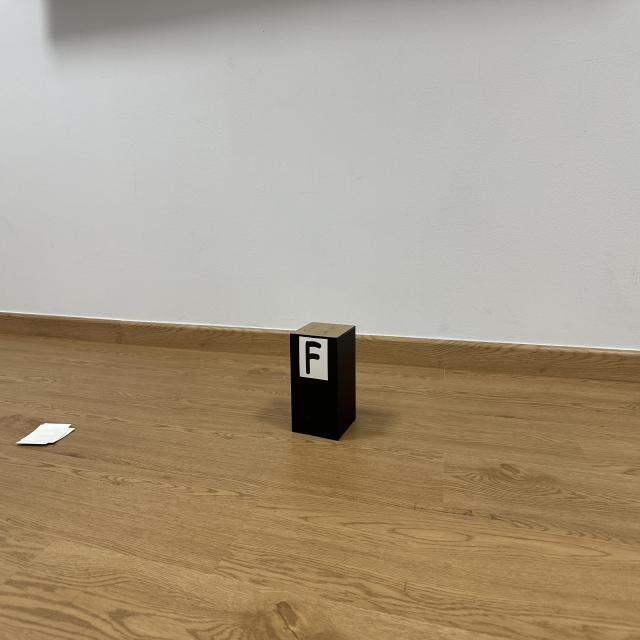F: (305, 342, 321, 375)
